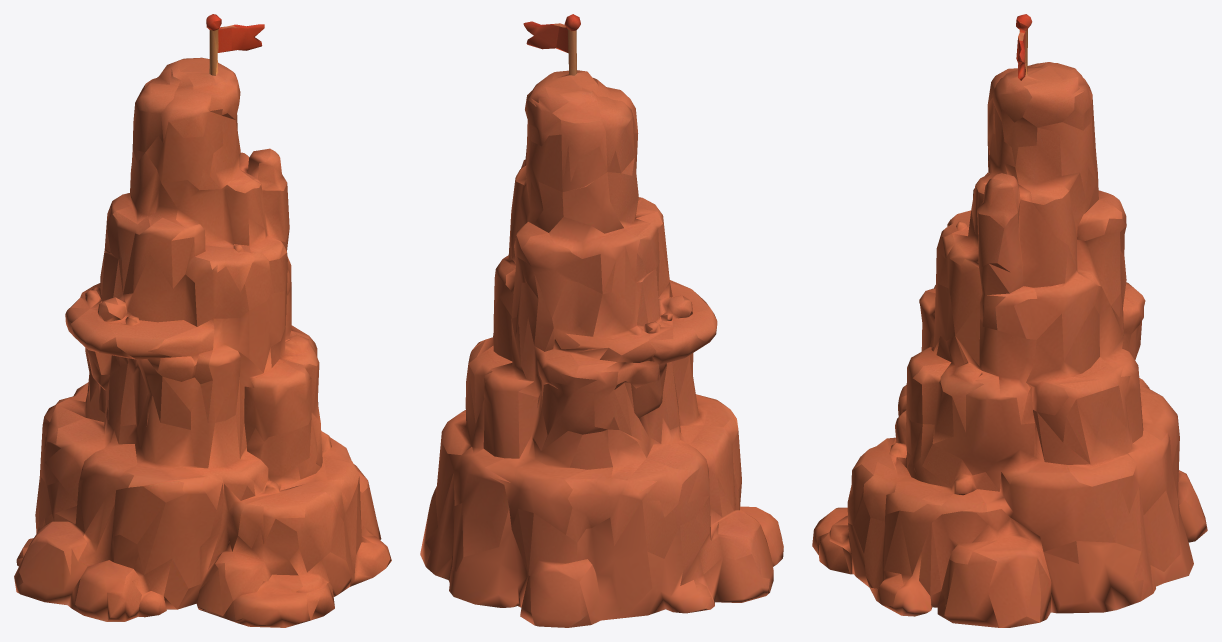
Rendered from canyon-summit.glb.
3 views of the same model, side by side, from view 1: azimuth 30°, elevation 25°; view 2: azimuth 150°, elevation 25°; view 3: azimuth 270°, elevation 25° (orthographic). The views are drawn at different scales.
Visible parts, largest first — view 1: mesh_node; view 2: mesh_node; view 3: mesh_node.
Boxes of the visible parts, box(x1,y1,x2,y2) form: mesh_node: box(14, 14, 391, 627); mesh_node: box(420, 14, 783, 627); mesh_node: box(812, 14, 1207, 627).
Size of the model in its own units: 1.27 by 1.9 by 1.26.
1 material, 1 textured.
